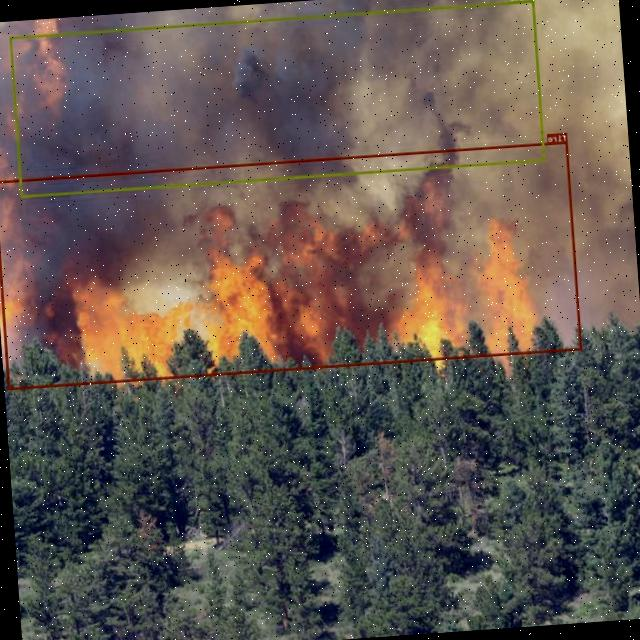fire: (0, 140, 582, 389)
smoke: (10, 0, 546, 197)
